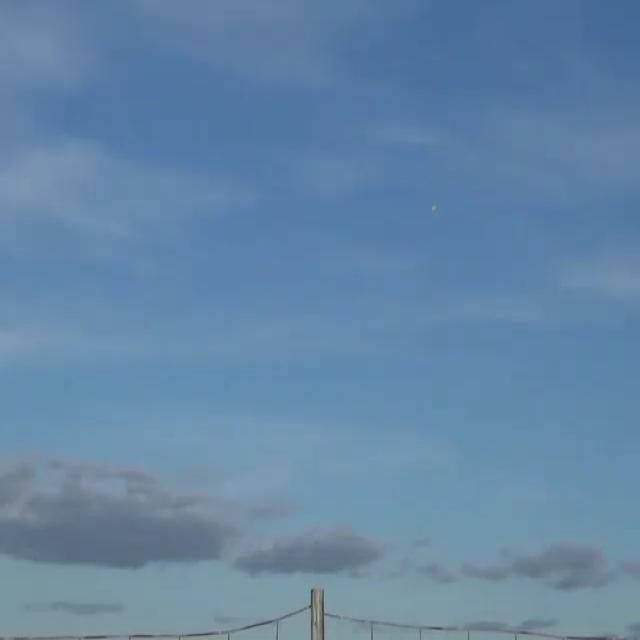AirPlane: (415, 186, 451, 235)
